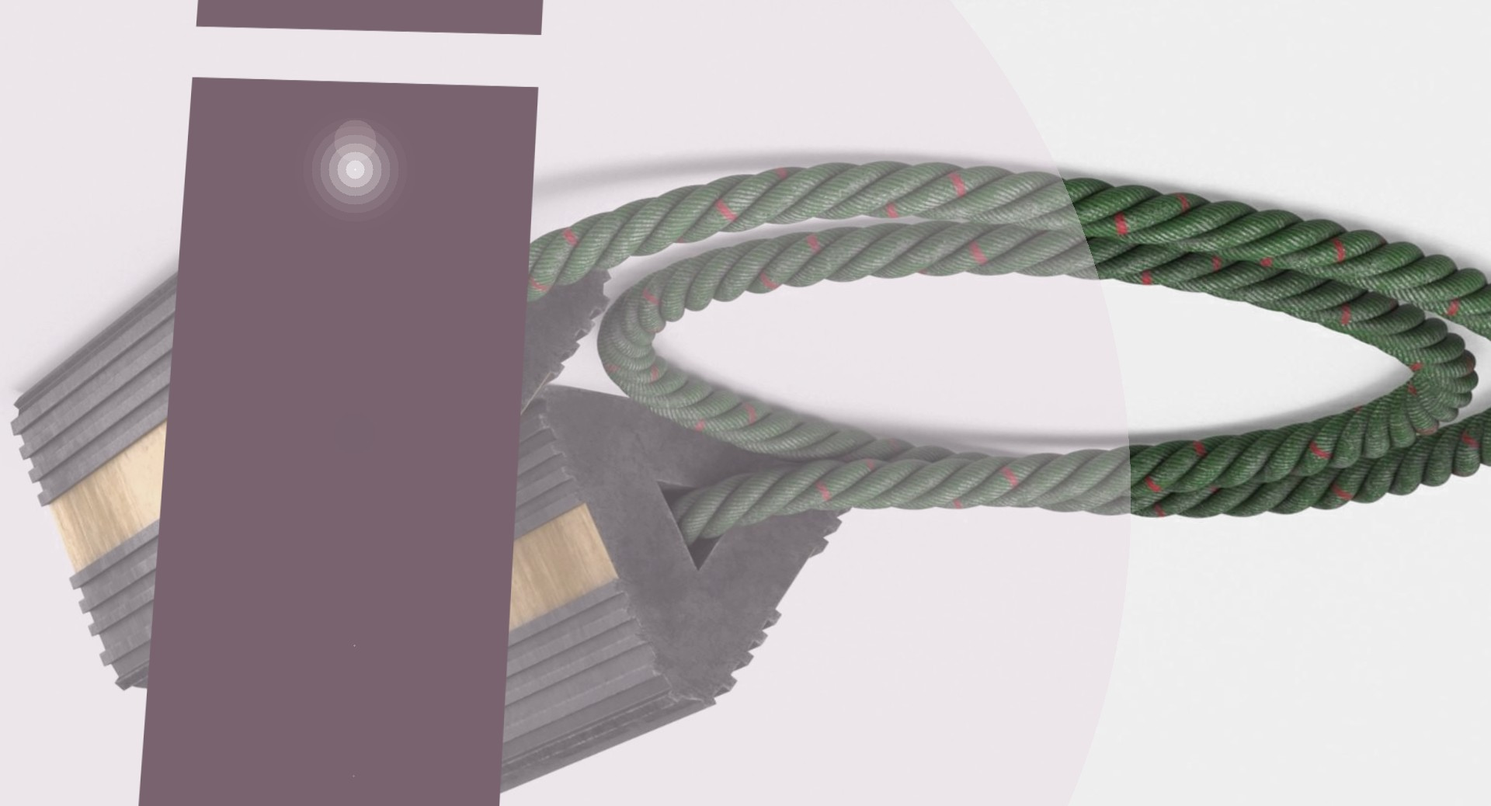chock: (0, 191, 614, 743), (277, 368, 877, 806)
